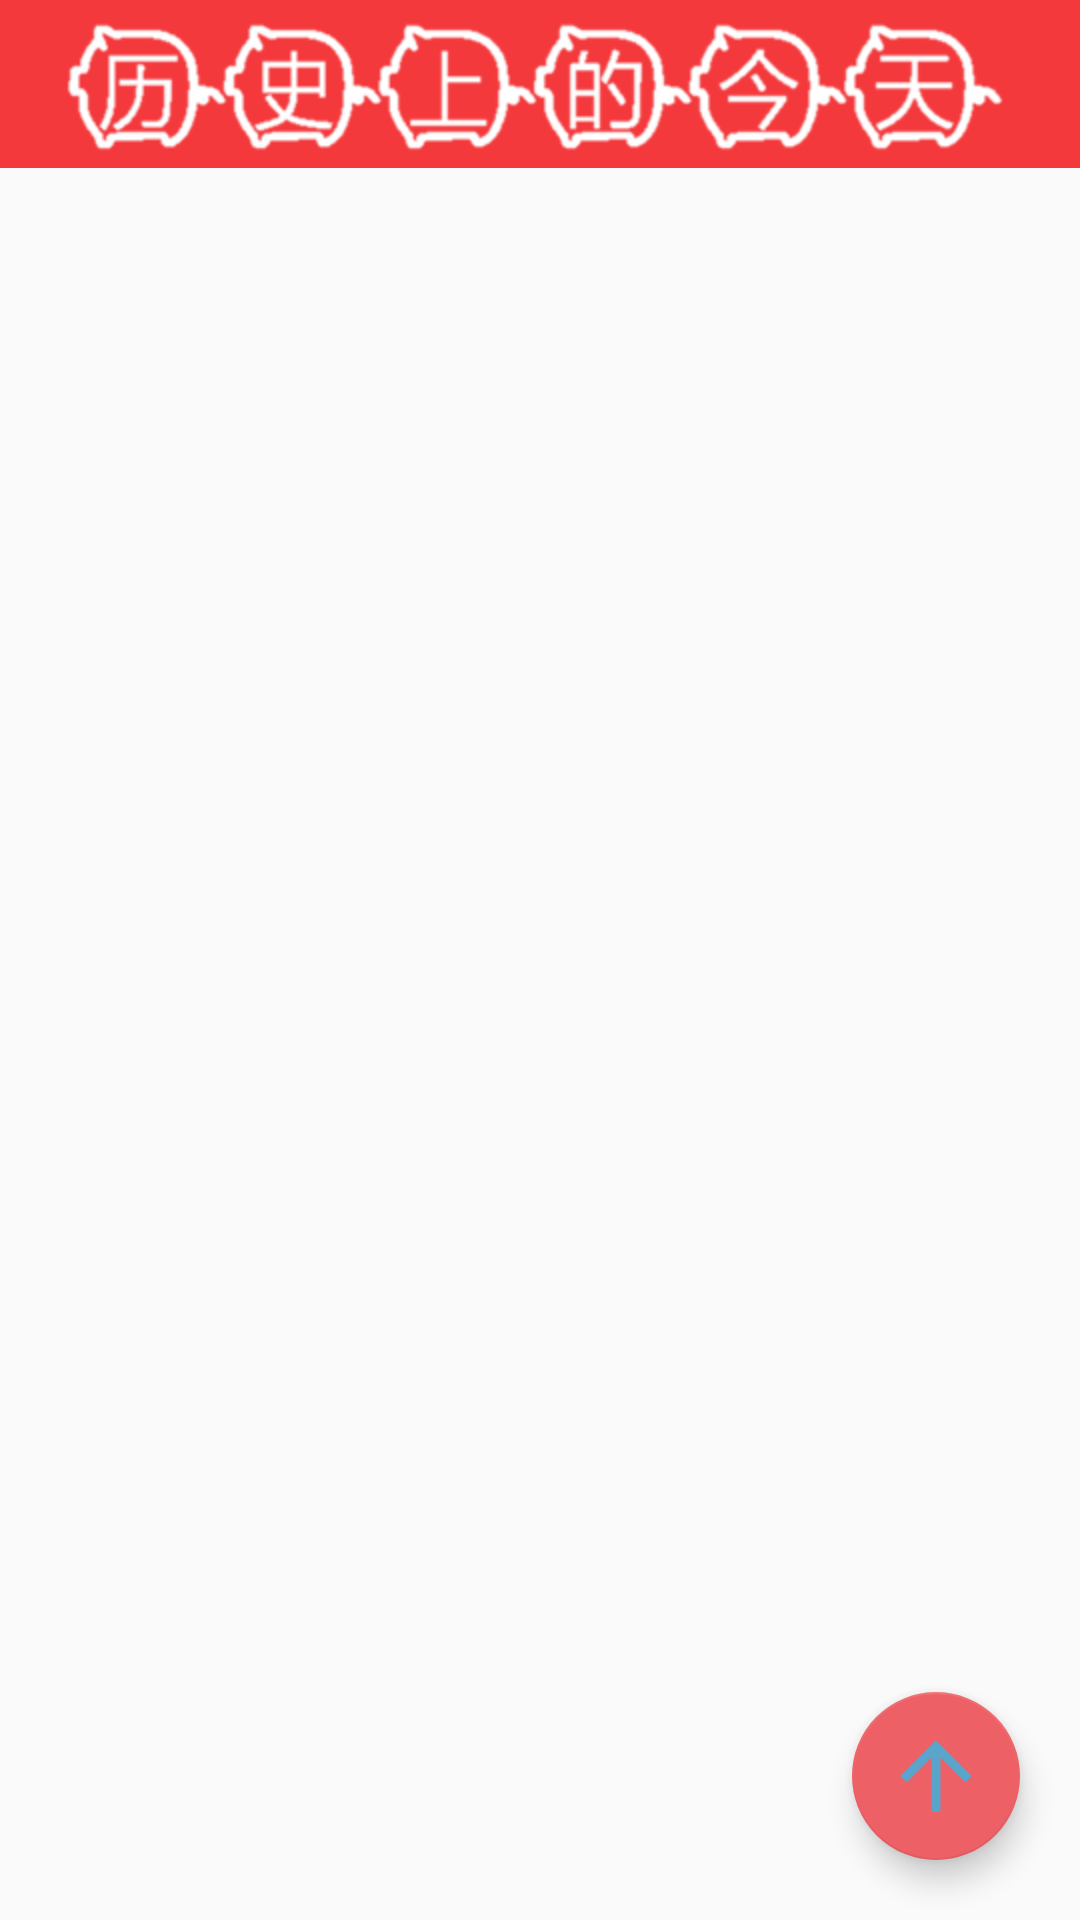

Point at icon controls on the screen. Image size 1080px×1920px, points as point (x, y).
top: point (936, 1776)
